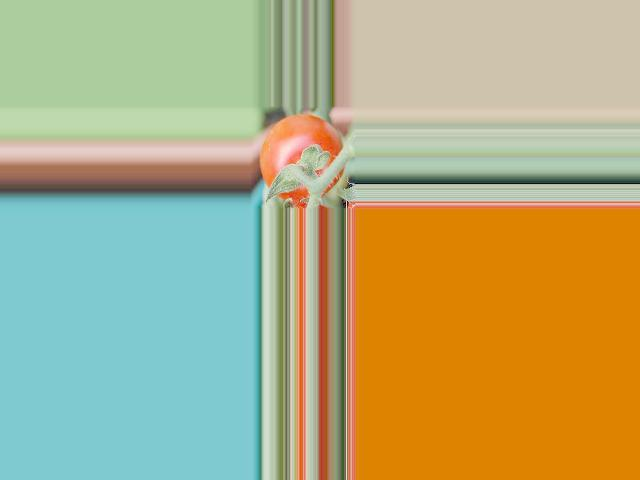tomato: (259, 114, 345, 206)
